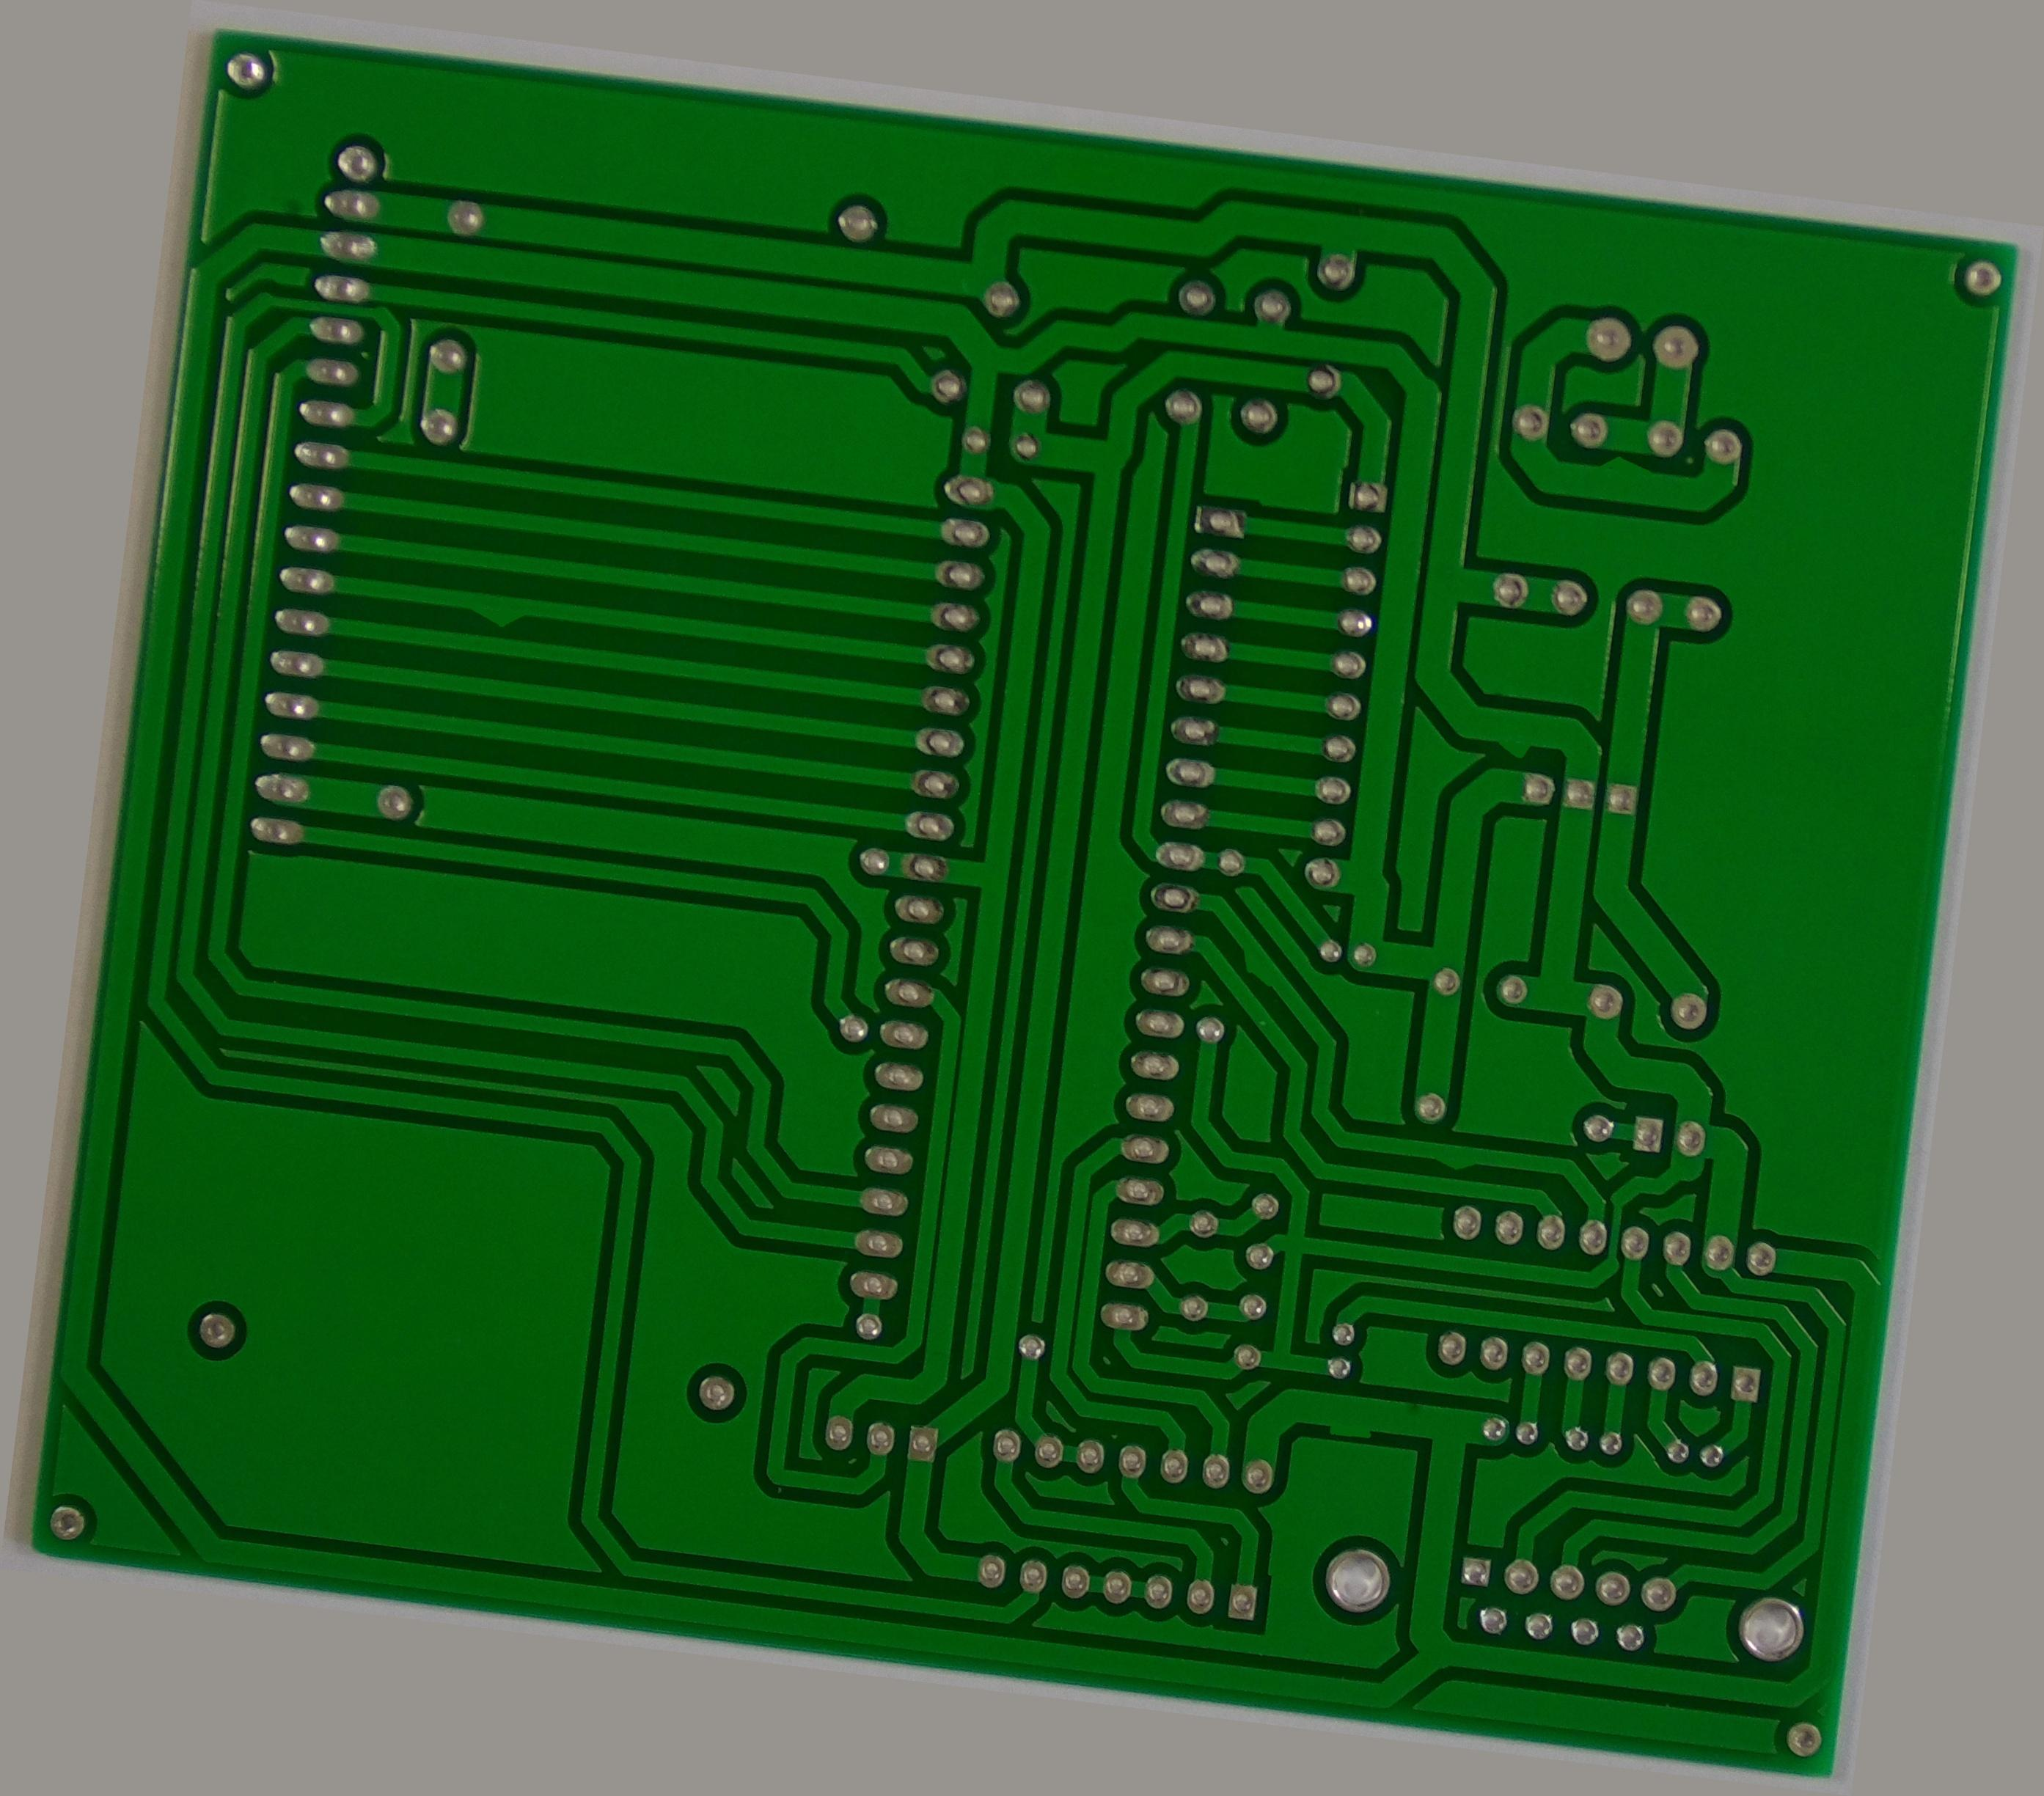spur: (363, 615, 461, 678), (1257, 909, 1330, 981), (1486, 1106, 1563, 1153), (1406, 1426, 1488, 1467), (1512, 636, 1576, 680)
